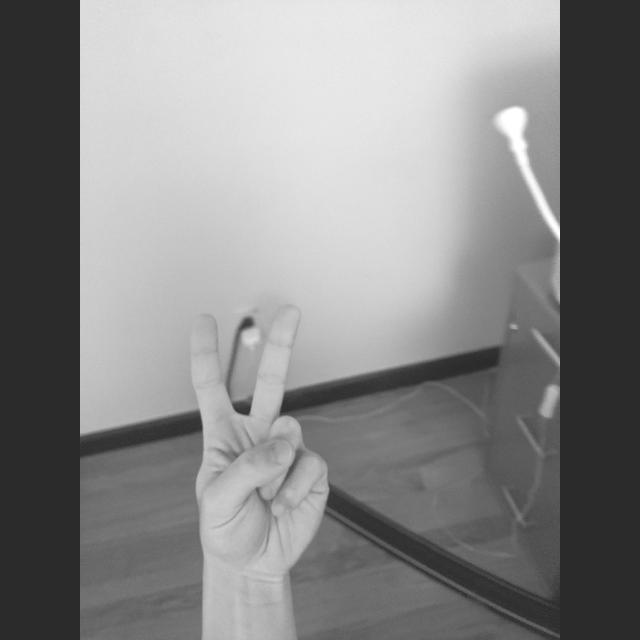V: (186, 302, 334, 578)
